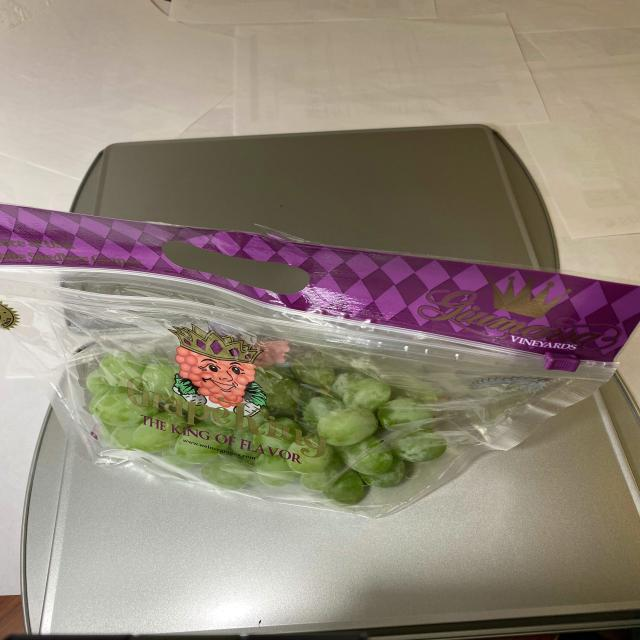grapes: (66, 353, 483, 493)
